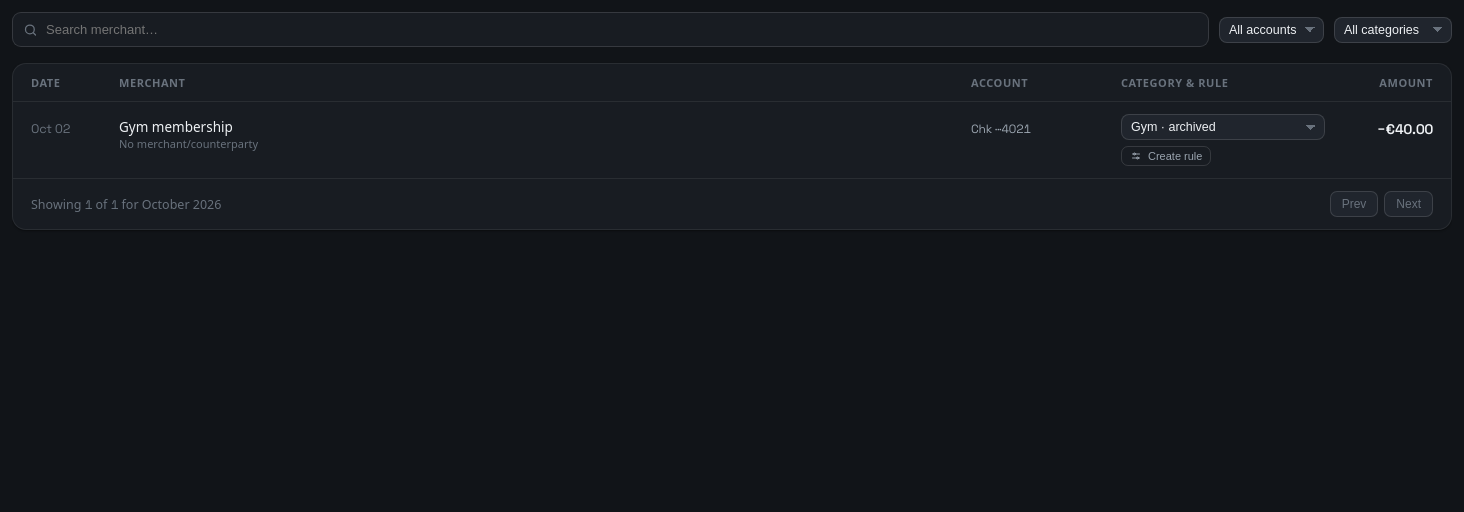
Test: TransactionsPage and archived categories › will not target a new rule at the archived category a transaction already sits in
Click the button "Create rule" at (1166, 156), box [1121,146,1211,166]
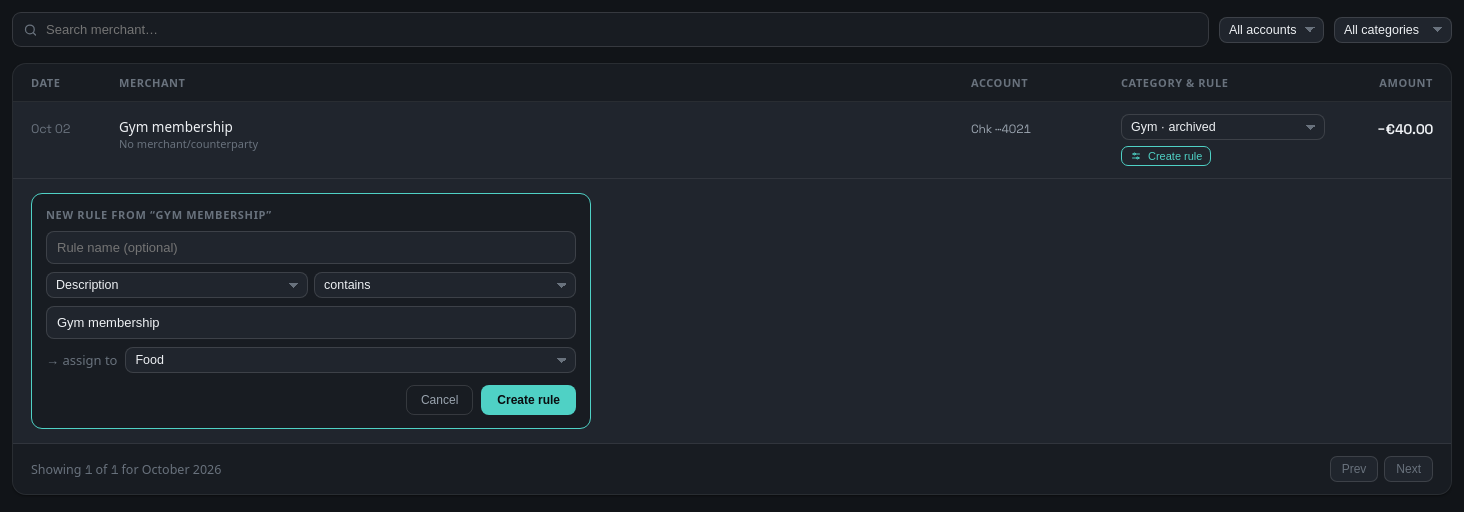
Expected: the dropdown named "Rule target category" shows "Food", [126,347,576,373]
